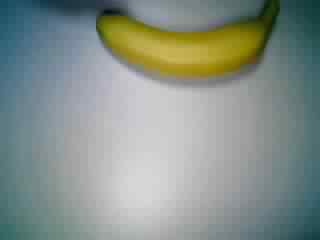banana: (88, 1, 283, 78)
